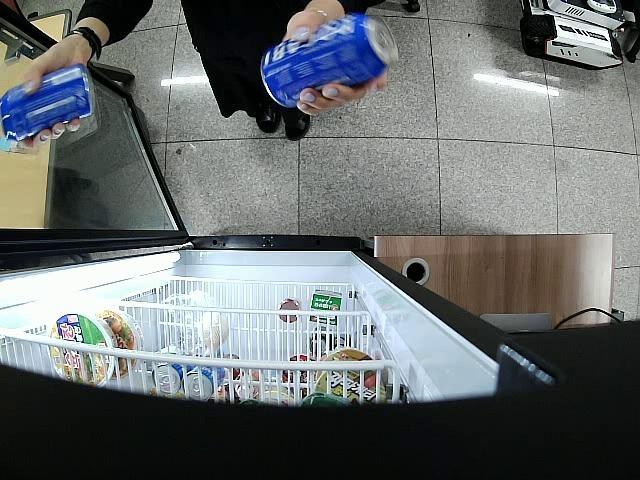13_pocariSweat: (260, 15, 397, 106), (0, 65, 95, 140)
